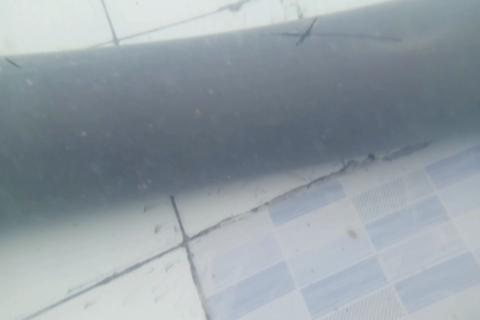keretakan: (273, 16, 405, 48), (1, 55, 23, 71)
